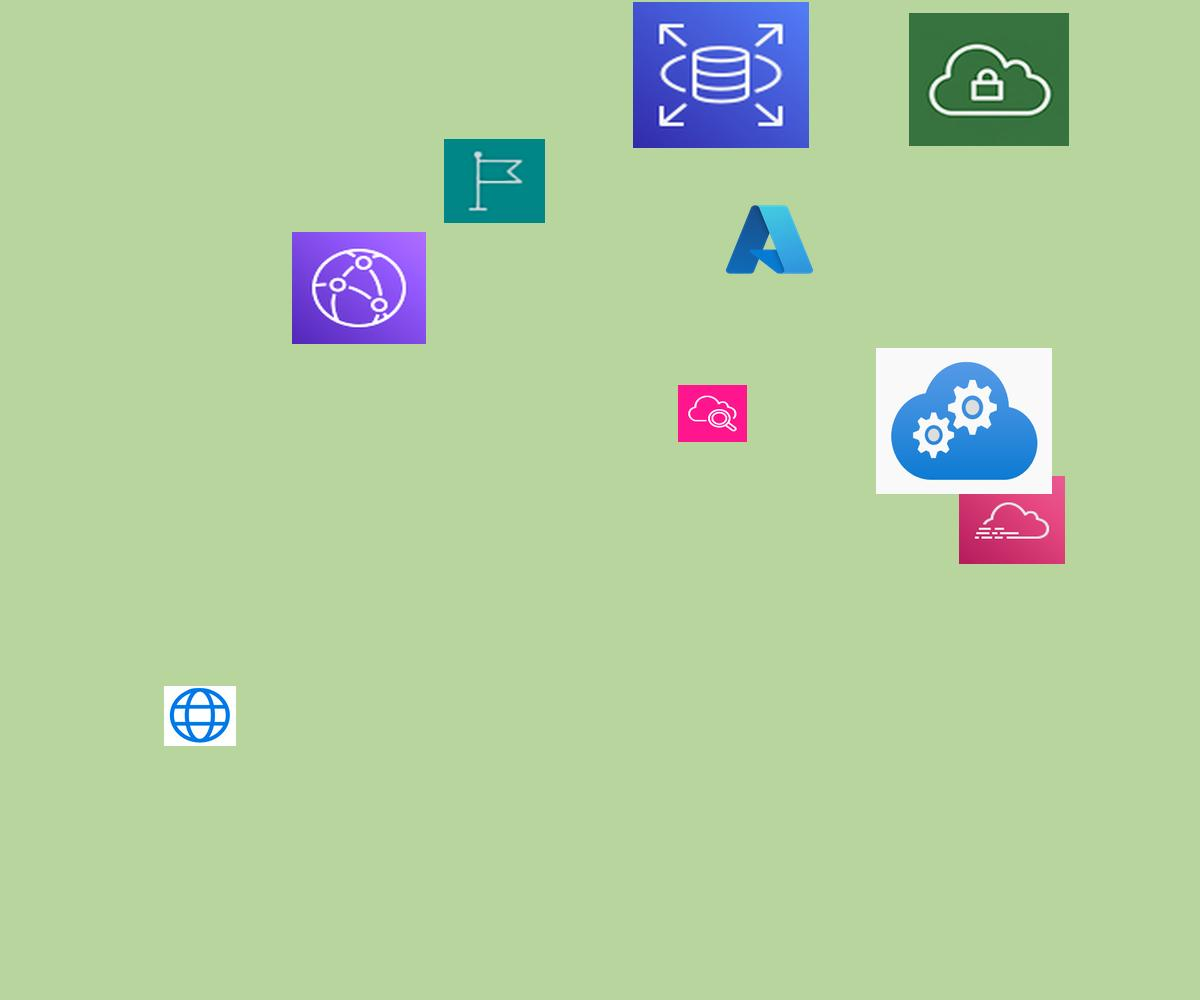AWS-CloudFront: (292, 232, 426, 344)
AWS-CloudTrail: (959, 476, 1065, 564)
AWS-CloudWatch: (678, 385, 747, 442)
AWS-Private_vpc: (909, 13, 1069, 146)
AWS-RDS: (633, 2, 809, 148)
AWS-Region: (444, 139, 545, 223)
Azure_cloud_services: (876, 348, 1052, 494)
Azure_http: (164, 686, 236, 746)
Azure_services: (722, 200, 817, 279)
